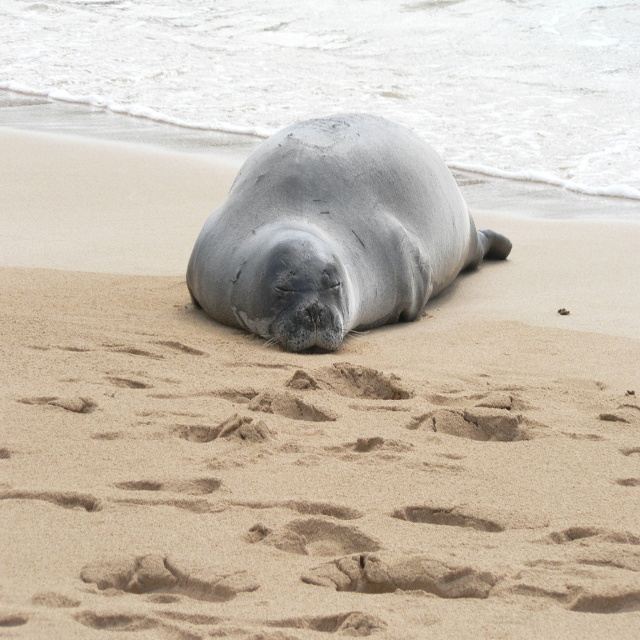Sea lion: (184, 110, 512, 354)
